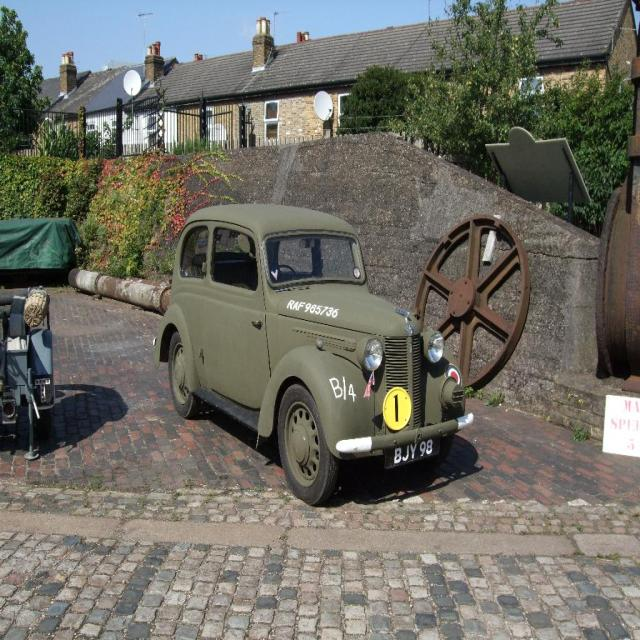car: (148, 194, 471, 505)
